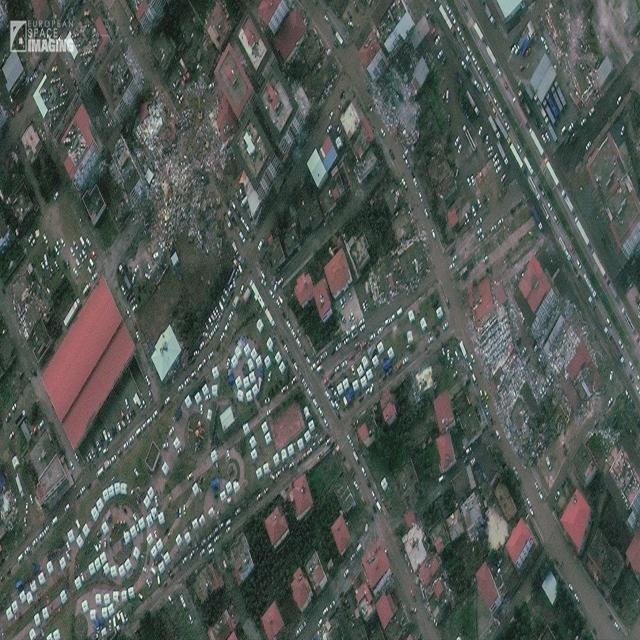Rubble: (150, 154, 191, 254), (496, 358, 541, 438), (476, 302, 515, 381), (132, 83, 170, 152), (194, 102, 232, 168), (376, 62, 414, 128), (550, 328, 590, 384)
